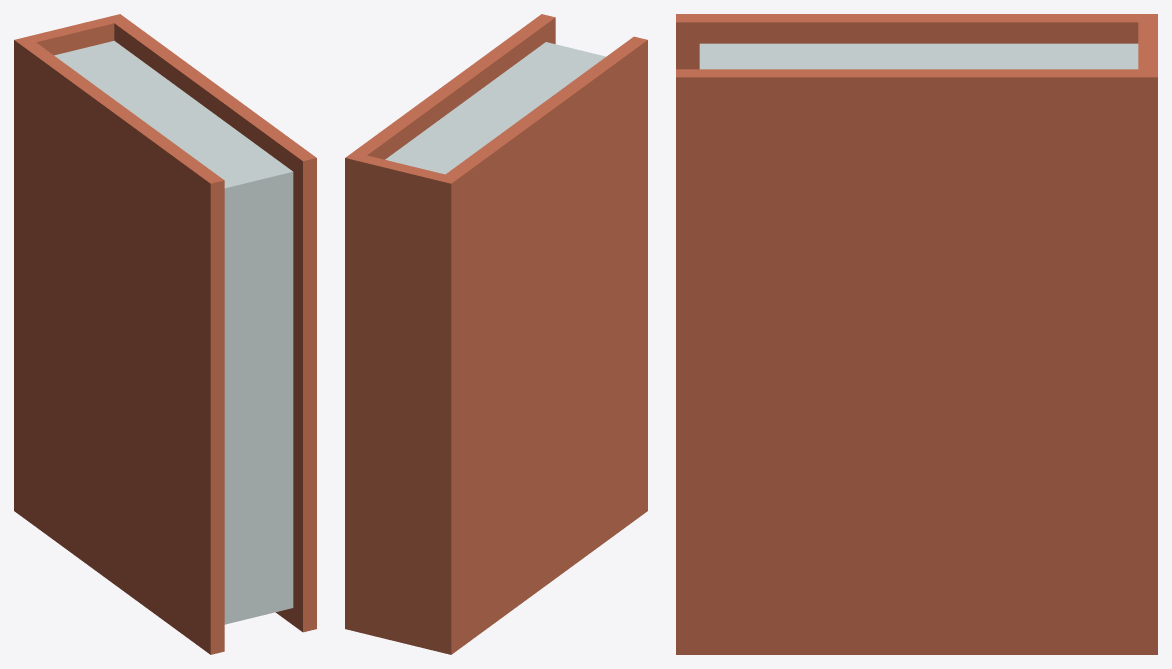
The model's file is Book_4.fbx.
3 views of the same model, side by side, from view 1: azimuth 30°, elevation 25°; view 2: azimuth 150°, elevation 25°; view 3: azimuth 270°, elevation 25° (orthographic). The views are drawn at different scales.
Parts seen in each view (by area): view 1: Book_4; view 2: Book_4; view 3: Book_4.
Part boxes in pixels (<box>): Book_4: <box>14,14,316,654</box>; Book_4: <box>345,14,647,654</box>; Book_4: <box>676,14,1157,654</box>.
Size of the model in its own units: 8.53 by 36.18 by 27.36.
Materials: 1 (1 with a texture image).
